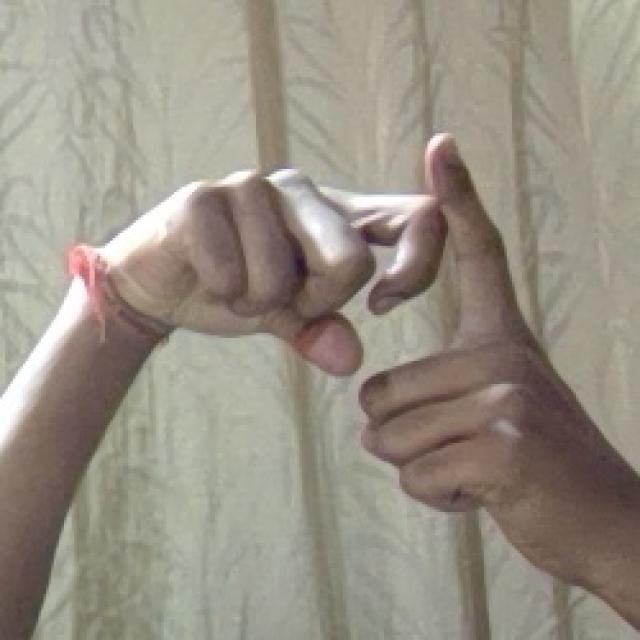Alphabet-K: (67, 151, 574, 581)
